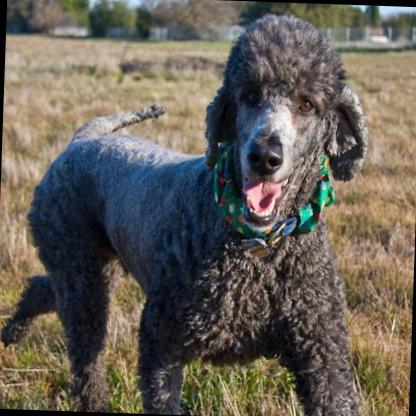standard_poodle: (0, 3, 389, 416)
